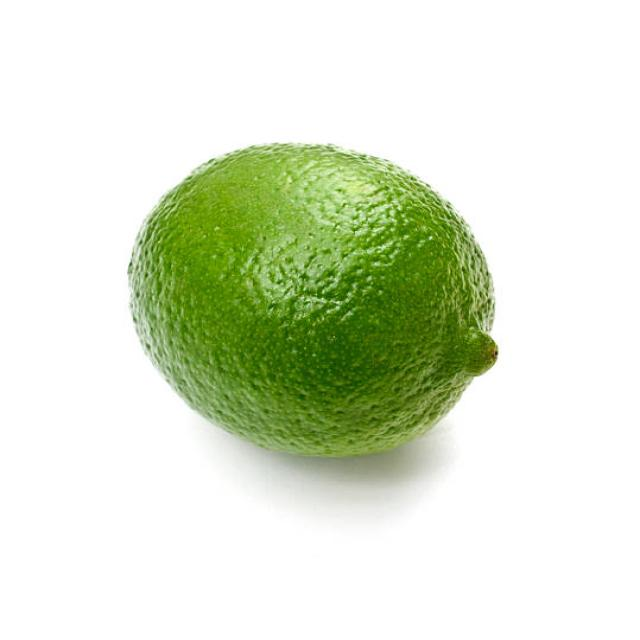Unripe: (123, 143, 502, 458)
